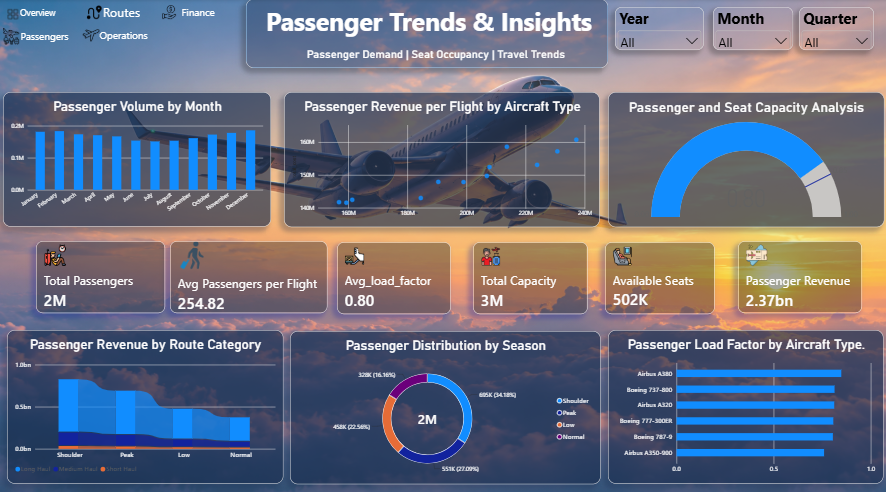

This screenshot's page, from the dashboard's own definition file:
{"tool":"powerbi","page":{"name":"Passenger Trends & Insights","canvas":[1920,1080],"ordinal":3},"visuals":[{"type":"ribbonChart","title":"Passenger Revenue by Route Category","fields":{"Category":["airline_route_profitability_cleaned.Season"],"Series":["route_details.Route_Category"],"Y":["Sum(airline_route_profitability_cleaned.Total_Revenue)"]},"box":[18.8,715.8,596.9,331.8],"z":0},{"type":"donutChart","title":"Passenger Distribution by Season","fields":{"Category":["airline_route_profitability_cleaned.Season"],"Series":["airline_route_profitability_cleaned.Season"],"Y":["Sum(airline_route_profitability_cleaned.Passengers)"]},"box":[631.6,716.6,671.4,331.2],"z":1000},{"type":"clusteredBarChart","title":"Passenger Load Factor by Aircraft Type.","fields":{"Category":["airline_route_profitability_cleaned.Aircraft_Type"],"Y":["calculation_tbl.Avg_load_factor"]},"box":[1316.9,715.8,594.8,331.8],"z":2000},{"type":"cardVisual","fields":{"Data":["calculation_tbl.Avg Passengers per Flight"]},"box":[371,523,340.2,155.6],"z":3000},{"type":"cardVisual","fields":{"Data":["Passenger Revenue.Available Seats"]},"box":[1310.6,523.8,237.1,155.6],"z":4000},{"type":"cardVisual","fields":{"Data":["calculation_tbl.Total Capacity"]},"box":[1026.8,523.8,247.9,155.6],"z":5000},{"type":"cardVisual","fields":{"Data":["calculation_tbl.avg_load_factor"]},"box":[732.5,523.8,246.1,155.6],"z":6000},{"type":"cardVisual","fields":{"Data":["Passenger Revenue.Passenger Revenue"]},"box":[1597.9,523,267.8,155.6],"z":7000},{"type":"shape","box":[535.7,0,781.8,117.6],"z":8000},{"type":"textbox","box":[561,10.9,740.2,52.5],"z":9000},{"type":"textbox","box":[649.7,72.4,535.7,34.4],"z":10000},{"type":"clusteredColumnChart","title":"Passenger Volume by Month","fields":{"Category":["Dim_Date.Flight_Date.Variation.Date Hierarchy.Month"],"Y":["calculation_tbl.Total passengers"]},"box":[10.9,200.9,579.1,291.4],"z":11000},{"type":"gauge","title":"Passenger and Seat Capacity Analysis","fields":{"Y":["calculation_tbl.Seat Utilization %"]},"box":[1316.9,200.3,596.9,292.2],"z":12000},{"type":"cardVisual","fields":{"Data":["calculation_tbl.total_passengers"]},"box":[81.4,521.7,278.7,155.6],"z":13000},{"type":"scatterChart","title":"Passenger Revenue per Flight by Aircraft Type","fields":{"Category":["Dim_Date.Month"],"X":["calculation_tbl.total_revenue_"],"Y":["calculation_tbl.total_cost"]},"box":[617.7,200.3,682.4,292.2],"z":14000},{"type":"slicer","fields":{"Values":["Dim_Date.Year"]},"box":[1331.9,16.3,193.6,63.3],"z":15000},{"type":"slicer","fields":{"Values":["Dim_Date.Month"]},"box":[1543.6,16.3,173.7,63.3],"z":16000},{"type":"slicer","fields":{"Values":["Dim_Date.Quarter"]},"box":[1730,18.1,162.9,63.3],"z":17000},{"type":"actionButton","box":[169,10.6,169,36.1],"z":18000},{"type":"actionButton","box":[16.7,12.8,133.6,38.3],"z":19000},{"type":"textbox","box":[47.1,18.1,85.6,34],"z":20000},{"type":"actionButton","box":[175.5,57.9,173.7,90.5],"z":21000},{"type":"actionButton","box":[10.4,63.8,139.8,48.9],"z":22000},{"type":"textbox","box":[168.3,10.9,152.3,36.1],"z":23000},{"type":"image","box":[187.8,10.6,39.7,36.1],"z":24000},{"type":"textbox","box":[367.4,12.7,129.4,38.3],"z":25000},{"type":"image","box":[352.7,0,35.5,57.4],"z":26000},{"type":"textbox","box":[19.9,65.1,141.9,31.9],"z":27000},{"type":"image","box":[10.4,55.3,35.5,48.9],"z":28000},{"type":"textbox","box":[208.1,63.3,119,34],"z":29000},{"type":"image","box":[175.5,61.5,52.5,36.2],"z":30000},{"type":"image","box":[2.1,17,59.7,31.3],"z":31000}]}

Visuals, with their boxes on the page's 1920x1080 design canvas (x1, y1, x2, y2). These are canvas units, not pixel positions in the 886x492 screenshot, which may show the page scaled, cropped or inside an application window:
"Passenger Revenue by Route Category" ribbonChart: crop(19, 716, 616, 1048)
"Passenger Distribution by Season" donutChart: crop(632, 717, 1303, 1048)
"Passenger Load Factor by Aircraft Type." clusteredBarChart: crop(1317, 716, 1912, 1048)
cardVisual - calculation_tbl.Avg Passengers per Flight: crop(371, 523, 711, 679)
cardVisual - Passenger Revenue.Available Seats: crop(1311, 524, 1548, 679)
cardVisual - calculation_tbl.Total Capacity: crop(1027, 524, 1275, 679)
cardVisual - calculation_tbl.avg_load_factor: crop(732, 524, 979, 679)
cardVisual - Passenger Revenue.Passenger Revenue: crop(1598, 523, 1866, 679)
shape: crop(536, 0, 1318, 118)
textbox: crop(561, 11, 1301, 63)
textbox: crop(650, 72, 1185, 107)
"Passenger Volume by Month" clusteredColumnChart: crop(11, 201, 590, 492)
"Passenger and Seat Capacity Analysis" gauge: crop(1317, 200, 1914, 492)
cardVisual - calculation_tbl.total_passengers: crop(81, 522, 360, 677)
"Passenger Revenue per Flight by Aircraft Type" scatterChart: crop(618, 200, 1300, 492)
slicer - Dim_Date.Year: crop(1332, 16, 1526, 80)
slicer - Dim_Date.Month: crop(1544, 16, 1717, 80)
slicer - Dim_Date.Quarter: crop(1730, 18, 1893, 81)
actionButton: crop(169, 11, 338, 47)
actionButton: crop(17, 13, 150, 51)
textbox: crop(47, 18, 133, 52)
actionButton: crop(176, 58, 349, 148)
actionButton: crop(10, 64, 150, 113)
textbox: crop(168, 11, 321, 47)
image: crop(188, 11, 228, 47)
textbox: crop(367, 13, 497, 51)
image: crop(353, 0, 388, 57)
textbox: crop(20, 65, 162, 97)
image: crop(10, 55, 46, 104)
textbox: crop(208, 63, 327, 97)
image: crop(176, 62, 228, 98)
image: crop(2, 17, 62, 48)
